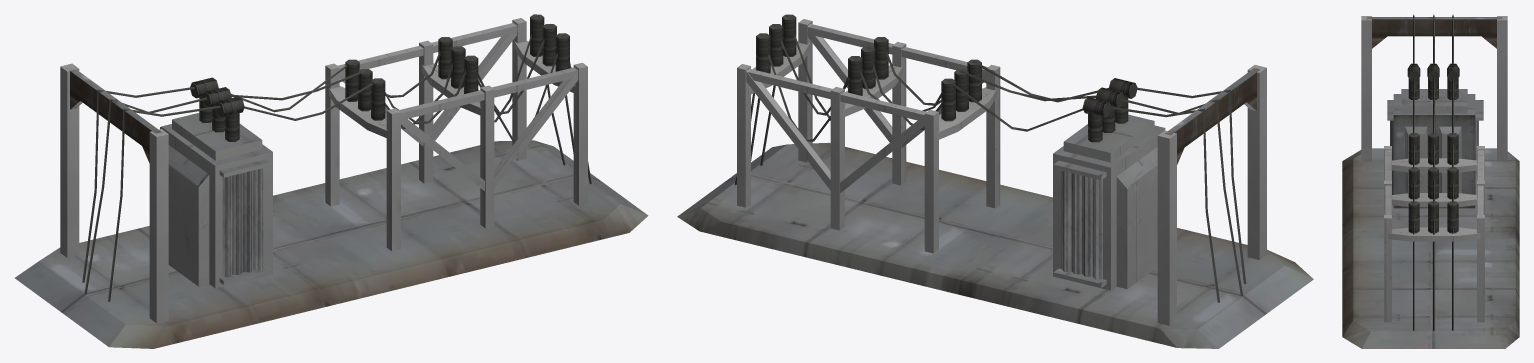
File: ind-substation.lod0.glb
3 renders of one model, left to right at view 1: azimuth 30°, elevation 25°; view 2: azimuth 150°, elevation 25°; view 3: azimuth 270°, elevation 25°, orthographic. The views are drawn at different scales.
Visible parts, largest first — view 1: Industrial_TsrStation_1_Industrial_Walls_FLR_1_0; view 2: Industrial_TsrStation_1_Industrial_Walls_FLR_1_0; view 3: Industrial_TsrStation_1_Industrial_Walls_FLR_1_0.
Part boxes in pixels (x1,y1,x2,y2): Industrial_TsrStation_1_Industrial_Walls_FLR_1_0: [15, 14, 648, 348]; Industrial_TsrStation_1_Industrial_Walls_FLR_1_0: [677, 14, 1313, 348]; Industrial_TsrStation_1_Industrial_Walls_FLR_1_0: [1342, 14, 1519, 348].
Size of the model in its own units: 11.8 by 4.23 by 4.43.
1 material, 1 textured.
